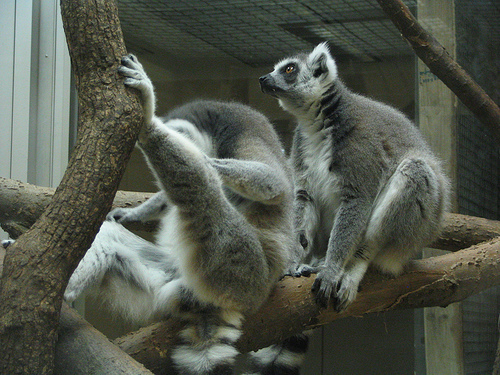cat: (259, 39, 450, 371), (64, 98, 294, 331)
